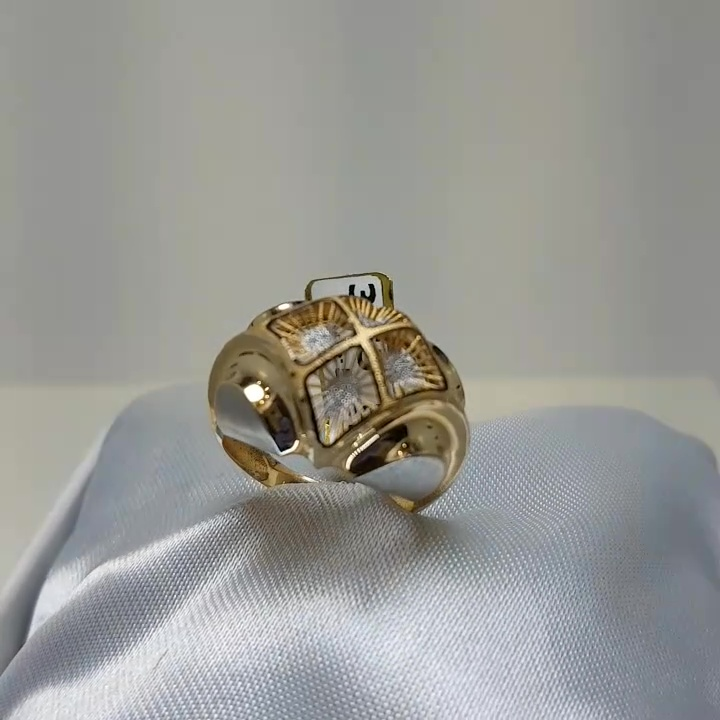Ring 2: (188, 262, 489, 531)
